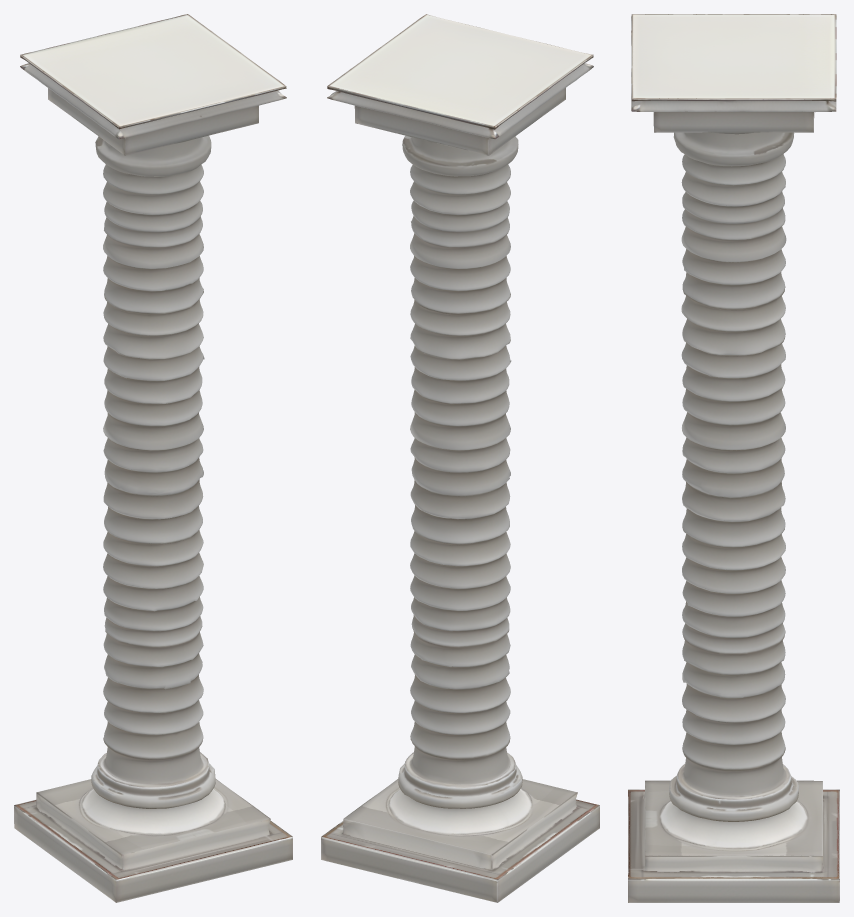
The model's file is primeirov.glb.
The picture shows the model from 3 angles, left to right: view 1: azimuth 30°, elevation 25°; view 2: azimuth 150°, elevation 25°; view 3: azimuth 270°, elevation 25°; orthographic projection. The views are drawn at different scales.
Visible parts, largest first — view 1: model; view 2: model; view 3: model.
Boxes of the visible parts, x1,y1,x2,y2 form: model: (14, 14, 292, 902); model: (321, 14, 599, 902); model: (628, 14, 839, 902).
Bounding box in the file's own units: 0.4525 × 1.9 × 0.453.
1 material, 1 textured.
